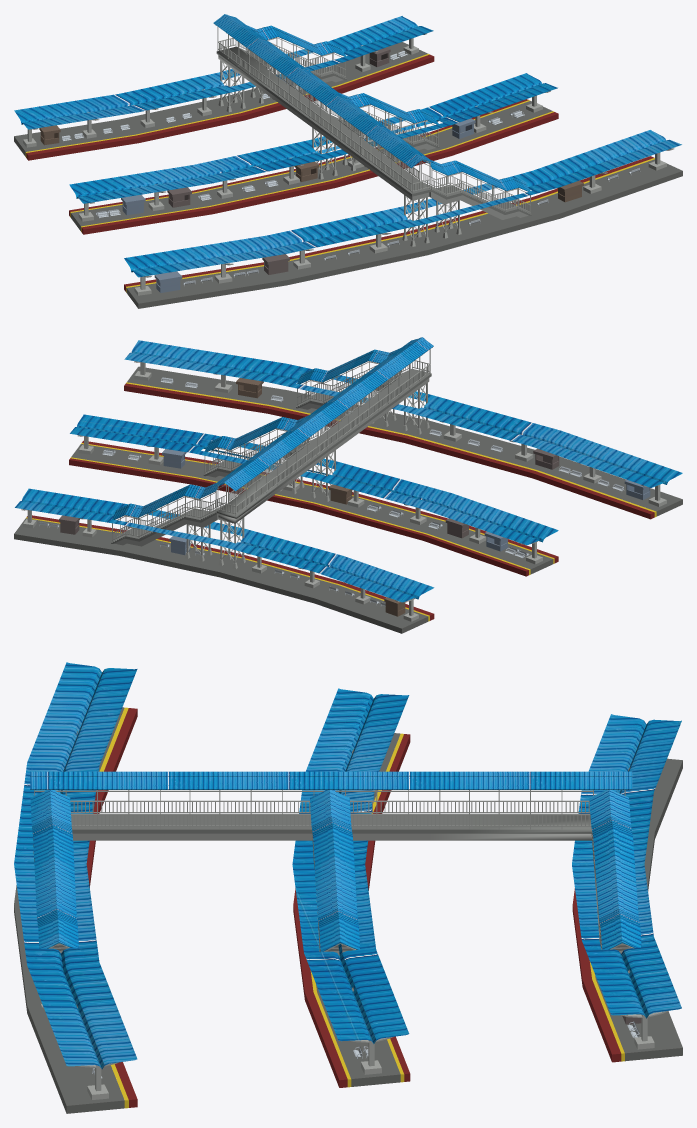
The model's file is railwayStation-transformed.glb.
The picture shows the model from 3 angles, top to bottom: view 1: azimuth 30°, elevation 25°; view 2: azimuth 150°, elevation 25°; view 3: azimuth 270°, elevation 25°; orthographic projection. The views are drawn at different scales.
Parts seen in each view (by area): view 1: Roof1, Ground_1, Roof4, Ground_2, Ground_3, Roof_M, Stairs_M, Fob_Mid_Railings_M, Seat_4, Railings_R1, Stair_roof_R1, Support_M (+12 smaller); view 2: Roof1, Ground_1, Roof4, Ground_2, Ground_3, Roof_M, Stairs_M, Fob_Mid_Railings_M, Seat_4, Railings_R, Stair_roof_R, Stair_roof_L1 (+10 smaller); view 3: Roof1, Roof4, Roof_M, Fob_Mid_Railings_M, Stairs_M, Ground_1, Stair_roof_L1, Stair_roof_R, Stair_roof_R1, Ground_2, Ground_3, Support_M.
Boxes of the visible parts, <box> form: Roof1: <box>14,16,557,203</box>; Ground_1: <box>124,156,682,308</box>; Roof4: <box>124,130,681,277</box>; Ground_2: <box>69,99,558,234</box>; Ground_3: <box>14,42,434,160</box>; Roof_M: <box>213,14,433,167</box>; Stairs_M: <box>216,46,431,196</box>; Fob_Mid_Railings_M: <box>215,25,430,193</box>; Seat_4: <box>61,50,640,285</box>; Railings_R1: <box>421,160,530,214</box>; Stair_roof_R1: <box>422,160,530,191</box>; Support_M: <box>218,55,429,200</box>; Roof1: <box>15,414,558,602</box>; Ground_1: <box>124,366,682,519</box>; Roof4: <box>124,340,682,487</box>; Ground_2: <box>69,440,558,576</box>; Ground_3: <box>14,515,434,633</box>; Roof_M: <box>213,337,433,491</box>; Stairs_M: <box>216,369,431,518</box>; Fob_Mid_Railings_M: <box>217,347,432,515</box>; Seat_4: <box>39,377,624,606</box>; Railings_R: <box>112,484,226,542</box>; Stair_roof_R: <box>112,482,224,519</box>; Stair_roof_L1: <box>204,415,308,451</box>; Roof1: <box>292,688,681,1043</box>; Roof4: <box>14,662,137,1069</box>; Roof_M: <box>30,771,632,789</box>; Fob_Mid_Railings_M: <box>34,790,625,829</box>; Stairs_M: <box>71,815,592,833</box>; Ground_1: <box>14,707,137,1113</box>; Stair_roof_L1: <box>310,790,360,951</box>; Stair_roof_R: <box>589,790,641,949</box>; Stair_roof_R1: <box>30,790,78,948</box>; Ground_2: <box>293,733,410,1087</box>; Ground_3: <box>572,758,682,1062</box>; Support_M: <box>72,833,591,840</box>.
Size of the model in its own units: 0.5473 by 0.0886 by 0.3831.
2 materials, 2 textured.
